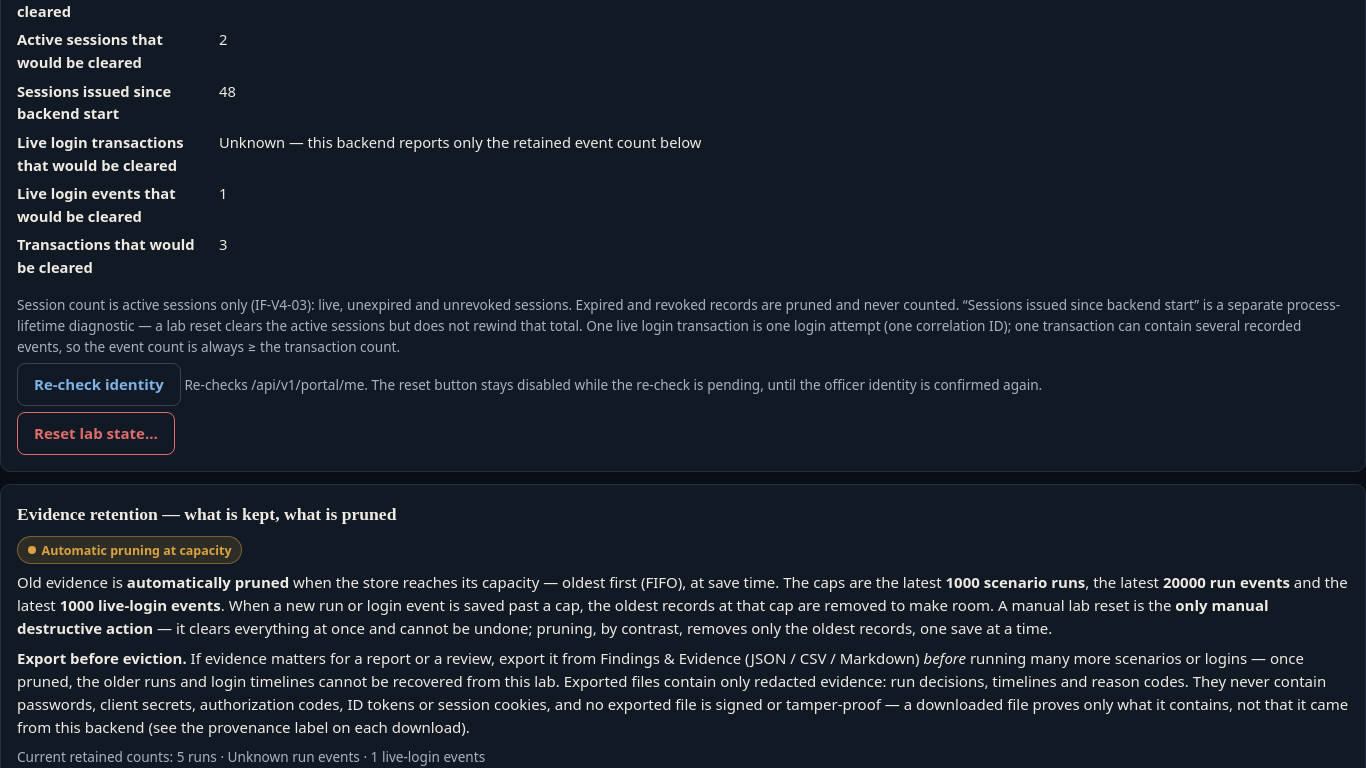
it: Settings reset during pending identity re-check (IF-V6-06 / P2-06, failing-first) › re-check that fails 401 leaves reset disabled and says sign in as officer
The image size is (1366, 768).
(page scrolled)
Click the button "Re-check identity".
click(99, 384)  # box [17, 363, 181, 406]
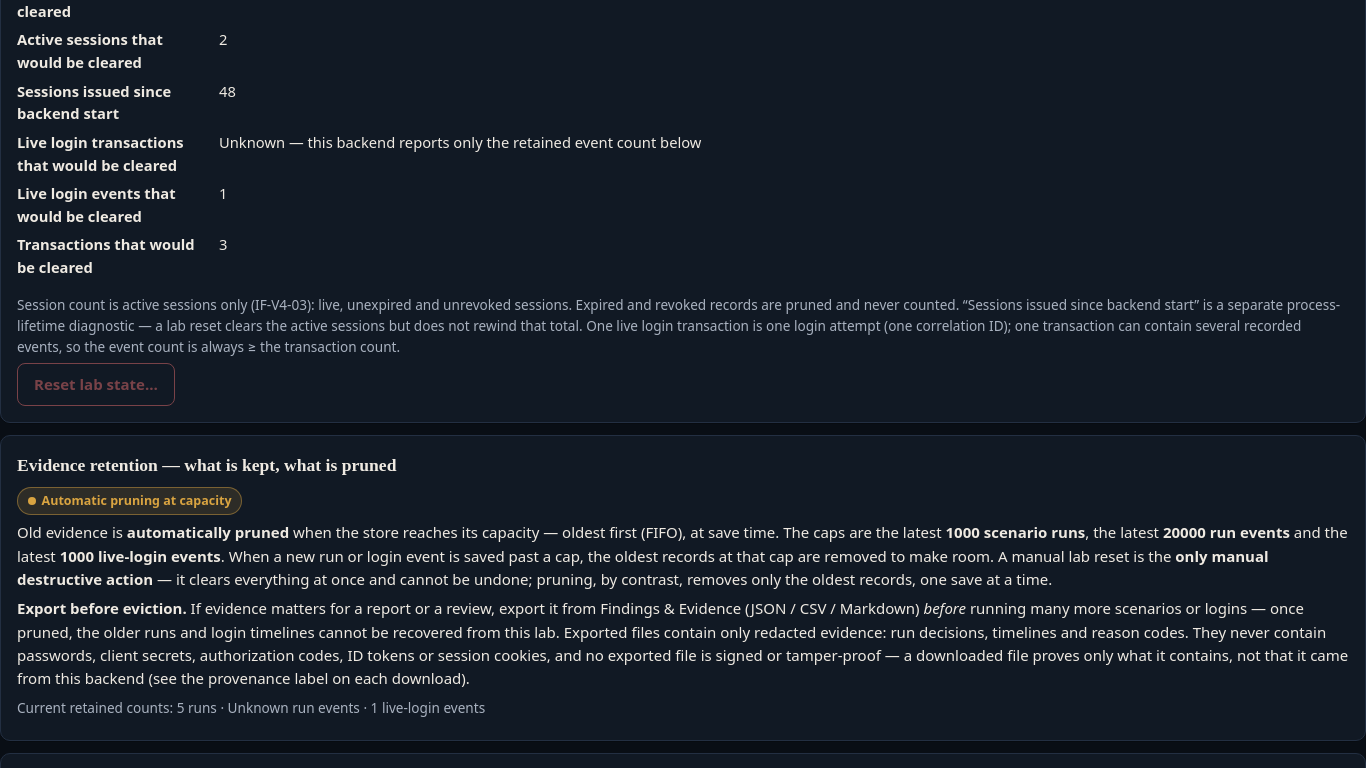
Result: the button "Reset lab state…" is disabled at [17, 363, 175, 406]
